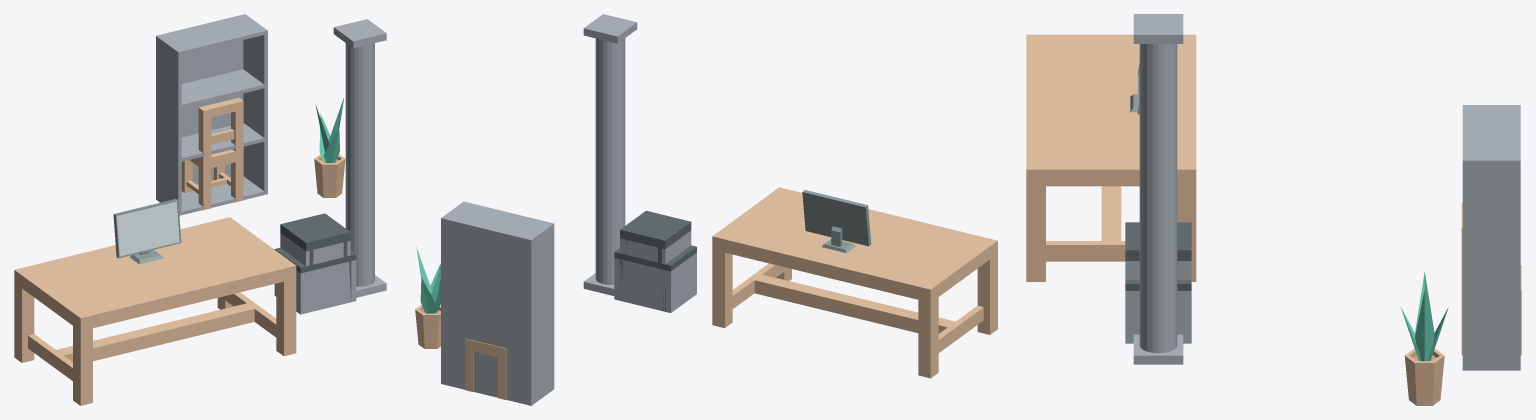
3 views of the same model, side by side, from view 1: azimuth 30°, elevation 25°; view 2: azimuth 150°, elevation 25°; view 3: azimuth 270°, elevation 25° (orthographic). The views are drawn at different scales.
Visible parts, largest first — view 1: table_green__table(Clone), column_cyan__column_cyan shaft, chair_cyan__chair(Clone), shelf_orange__shelf_orange side_l, monitor_gray__computerScreen(Clone), shelf_orange__shelf_orange back, shelf_orange__shelf_orange side_r, crate_red__crate_red shell, shelf_orange__shelf_orange board3, shelf_orange__shelf_orange board2, bin_gray__bin_gray lid, shelf_orange__shelf_orange board0 (+7 smaller); view 2: table_green__table(Clone), shelf_orange__shelf_orange back, column_cyan__column_cyan shaft, shelf_orange__shelf_orange side_l, crate_red__crate_red shell, monitor_gray__computerScreen(Clone), shelf_orange__shelf_orange board3, bin_gray__bin_gray lid, chair_cyan__chair(Clone), bin_gray__bin_gray shell, column_cyan__column_cyan capital, plant_pink__pottedPlant(Clone) (+3 smaller); view 3: table_green__table(Clone), shelf_orange__shelf_orange side_r, column_cyan__column_cyan shaft, shelf_orange__shelf_orange board3, plant_pink__pottedPlant(Clone), column_cyan__column_cyan capital, crate_red__crate_red shell, plant_pink__plant, bin_gray__bin_gray lid, column_cyan__column_cyan plinth, bin_gray__bin_gray shell, chair_cyan__chair(Clone).
Boxes of the visible parts, left/top/right/bottom form: table_green__table(Clone): left=14, top=217, right=296, bottom=405; column_cyan__column_cyan shaft: left=345, top=43, right=374, bottom=286; chair_cyan__chair(Clone): left=181, top=97, right=243, bottom=210; shelf_orange__shelf_orange side_l: left=156, top=35, right=181, bottom=215; monitor_gray__computerScreen(Clone): left=113, top=199, right=181, bottom=264; shelf_orange__shelf_orange back: left=159, top=15, right=243, bottom=184; shelf_orange__shelf_orange side_r: left=242, top=14, right=267, bottom=194; crate_red__crate_red shell: left=274, top=260, right=356, bottom=314; shelf_orange__shelf_orange board3: left=161, top=16, right=264, bottom=54; shelf_orange__shelf_orange board2: left=181, top=69, right=264, bottom=108; bin_gray__bin_gray lid: left=280, top=213, right=350, bottom=251; shelf_orange__shelf_orange board0: left=181, top=176, right=264, bottom=214; table_green__table(Clone): left=712, top=187, right=997, bottom=378; shelf_orange__shelf_orange back: left=444, top=218, right=528, bottom=404; column_cyan__column_cyan shaft: left=595, top=38, right=625, bottom=284; shelf_orange__shelf_orange side_l: left=528, top=223, right=554, bottom=405; crate_red__crate_red shell: left=614, top=252, right=696, bottom=312; monitor_gray__computerScreen(Clone): left=802, top=190, right=871, bottom=252; shelf_orange__shelf_orange board3: left=446, top=202, right=550, bottom=238; bin_gray__bin_gray lid: left=620, top=210, right=691, bottom=249; chair_cyan__chair(Clone): left=465, top=338, right=506, bottom=399; bin_gray__bin_gray shell: left=620, top=230, right=691, bottom=264; column_cyan__column_cyan capital: left=583, top=14, right=637, bottom=43; plant_pink__pottedPlant(Clone): left=415, top=304, right=440, bottom=348; table_green__table(Clone): left=1026, top=34, right=1196, bottom=281; shelf_orange__shelf_orange side_r: left=1462, top=158, right=1520, bottom=370; column_cyan__column_cyan shaft: left=1139, top=44, right=1177, bottom=353; shelf_orange__shelf_orange board3: left=1462, top=107, right=1517, bottom=158; plant_pink__pottedPlant(Clone): left=1404, top=348, right=1444, bottom=405; column_cyan__column_cyan capital: left=1133, top=14, right=1183, bottom=43; crate_red__crate_red shell: left=1125, top=291, right=1191, bottom=343; plant_pink__plant: left=1400, top=272, right=1448, bottom=361; bin_gray__bin_gray lid: left=1125, top=222, right=1191, bottom=260; column_cyan__column_cyan plinth: left=1133, top=334, right=1183, bottom=364; bin_gray__bin_gray shell: left=1125, top=261, right=1191, bottom=280; chair_cyan__chair(Clone): left=1461, top=202, right=1521, bottom=355.
Bounding box in the file's own units: 3.75 × 2.2 × 2.99.
